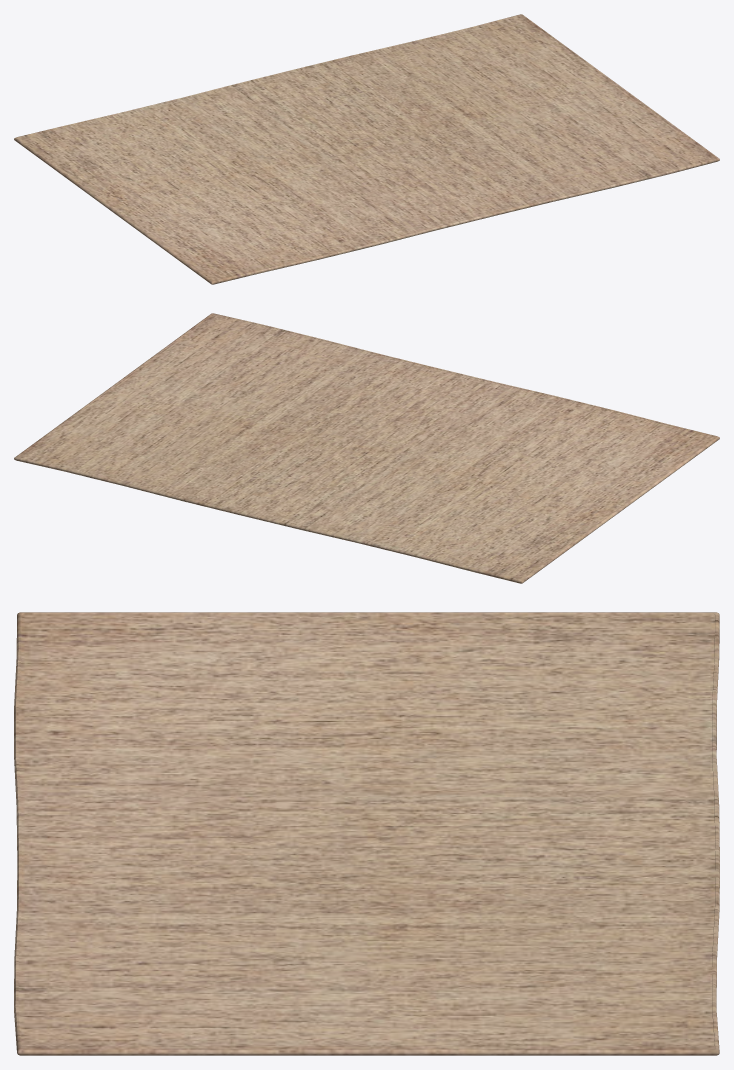
3 renders of one model, top to bottom at view 1: azimuth 30°, elevation 25°; view 2: azimuth 150°, elevation 25°; view 3: azimuth 270°, elevation 25°, orthographic. The views are drawn at different scales.
Parts seen in each view (by area): view 1: RootNode; view 2: RootNode; view 3: RootNode.
Boxes of the visible parts, box(x1,y1,x2,y2) form: RootNode: box(14, 14, 719, 284); RootNode: box(14, 313, 719, 583); RootNode: box(14, 612, 719, 1055).
Bounding box in the file's own units: 2.28 × 0.0126 × 1.55.
1 material, 1 textured.
